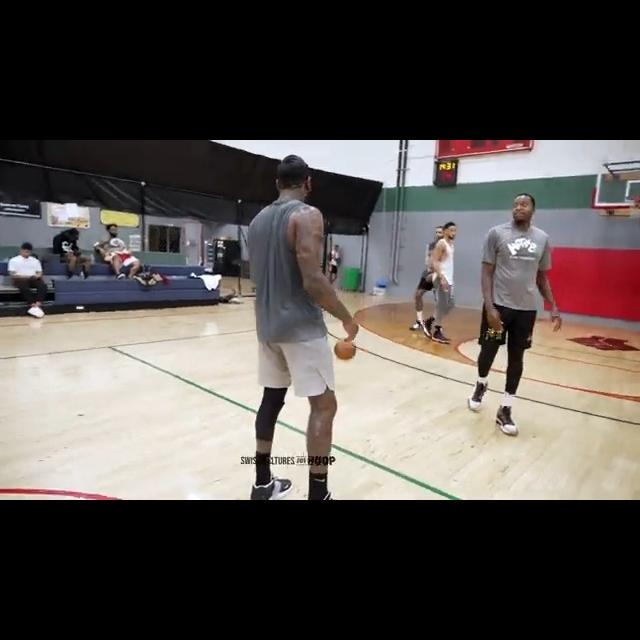basketball: (334, 338, 356, 360)
hoop: (626, 195, 640, 220)
person: (246, 151, 338, 500), (466, 193, 562, 437), (421, 221, 459, 343), (411, 226, 450, 336), (1, 245, 51, 319), (95, 221, 143, 281), (47, 226, 89, 279), (328, 244, 342, 289)
